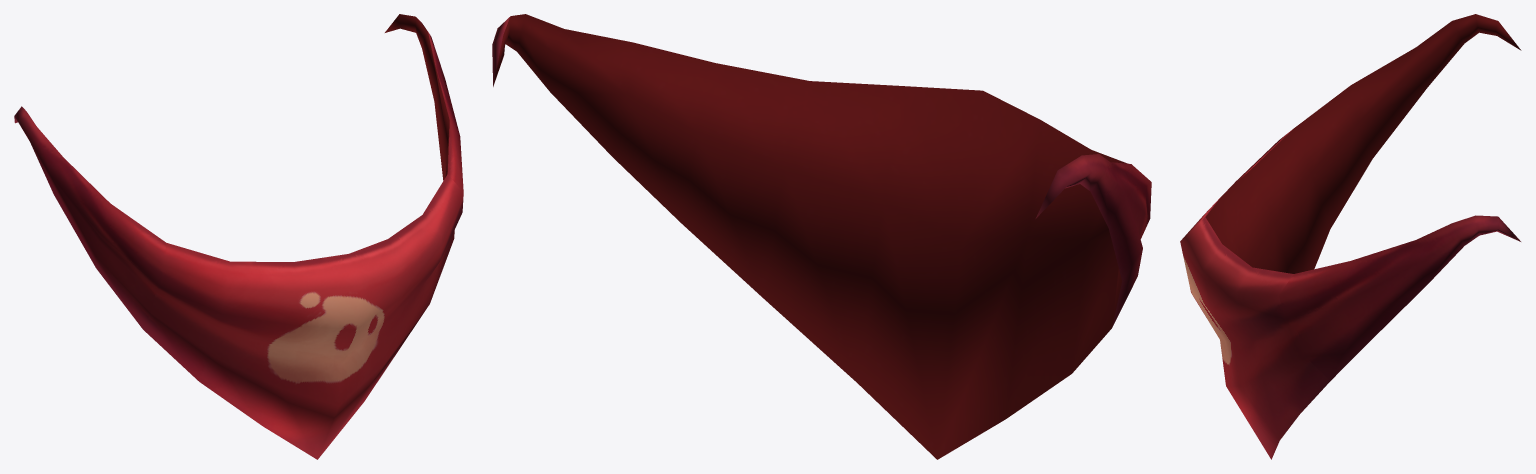
The model's file is Headwear_2600088.fbx.
3 renders of one model, left to right at view 1: azimuth 30°, elevation 25°; view 2: azimuth 150°, elevation 25°; view 3: azimuth 270°, elevation 25°, orthographic. The views are drawn at different scales.
Parts seen in each view (by area): view 1: Headwear_2600088; view 2: Headwear_2600088; view 3: Headwear_2600088.
Part boxes in pixels (<box>): Headwear_2600088: <box>14,14,463,459</box>; Headwear_2600088: <box>492,14,1151,459</box>; Headwear_2600088: <box>1180,14,1521,459</box>.
Size of the model in its own units: 33.71 by 25.92 by 23.25.
Materials: 1 (1 with a texture image).
